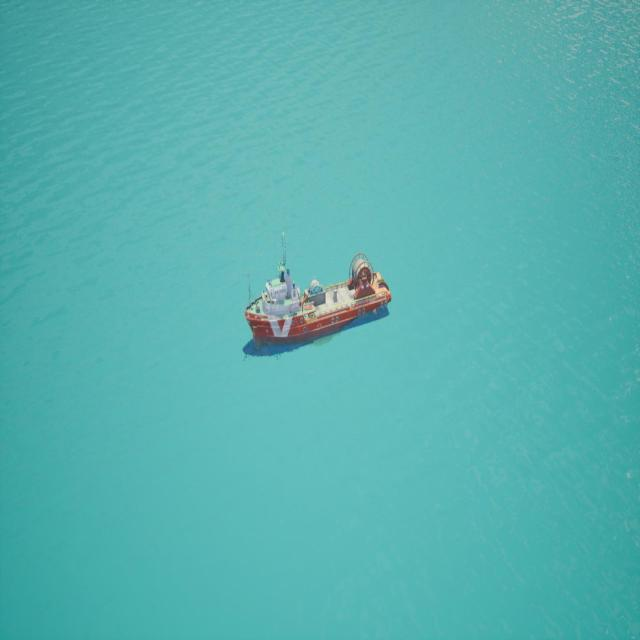tug boat: (245, 234, 392, 358), (260, 253, 375, 329)
